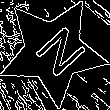N_SW: (21, 20, 85, 83)
